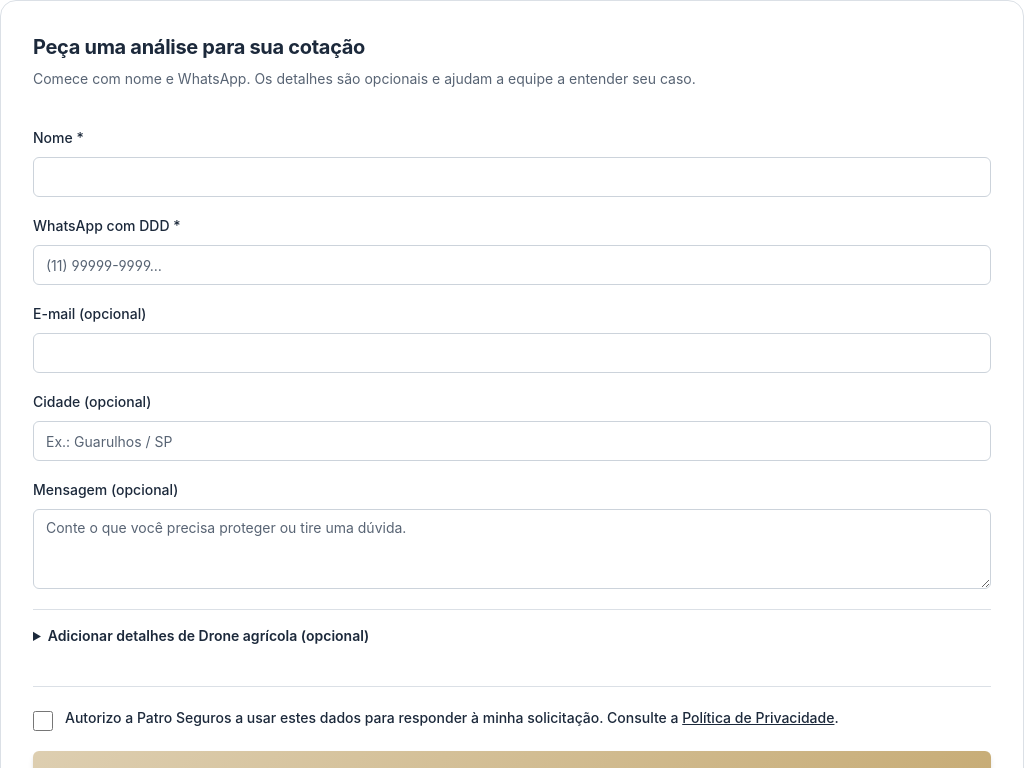
Test: Captação por produto › envia produto, origem, campanha, consentimento e detalhes pelo fluxo existente
This screenshot has width=1024, height=768.
Step 1. Type "Maria Teste" into the field labelled "Nome *" → (512, 177), box [33,157,991,197]
Step 2. Type "11999999999" into the field labelled "WhatsApp com DDD *" → (512, 265), box [33,245,991,285]
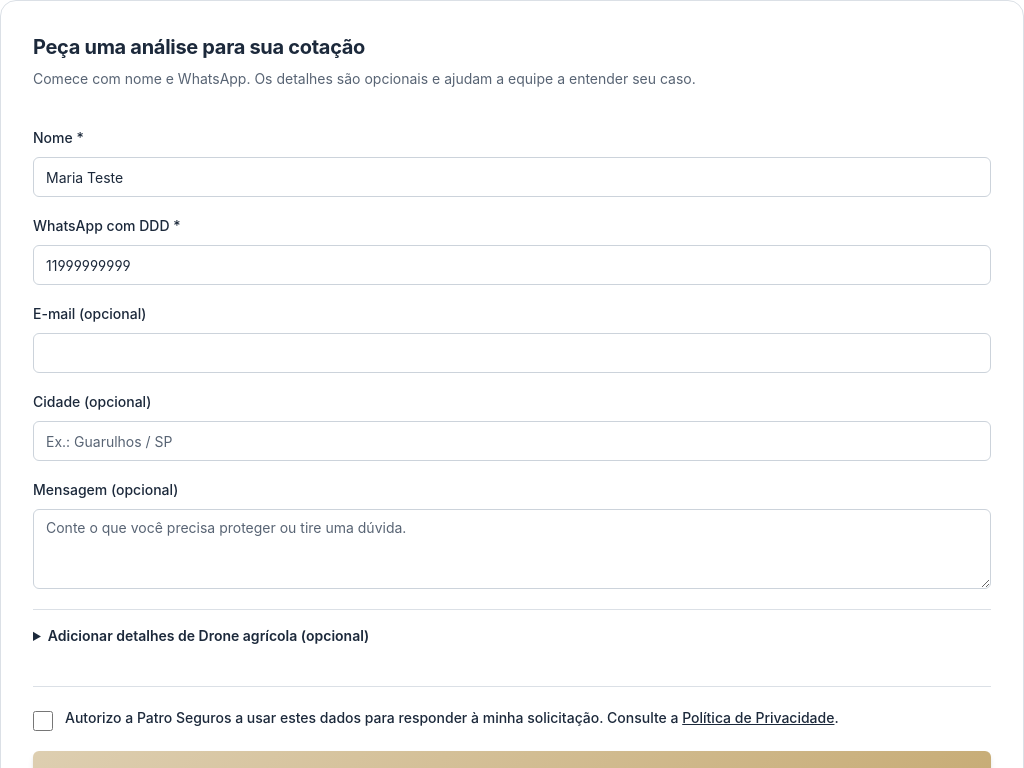
Step 3. Click the checkbox → (43, 721), box [33,711,53,731]
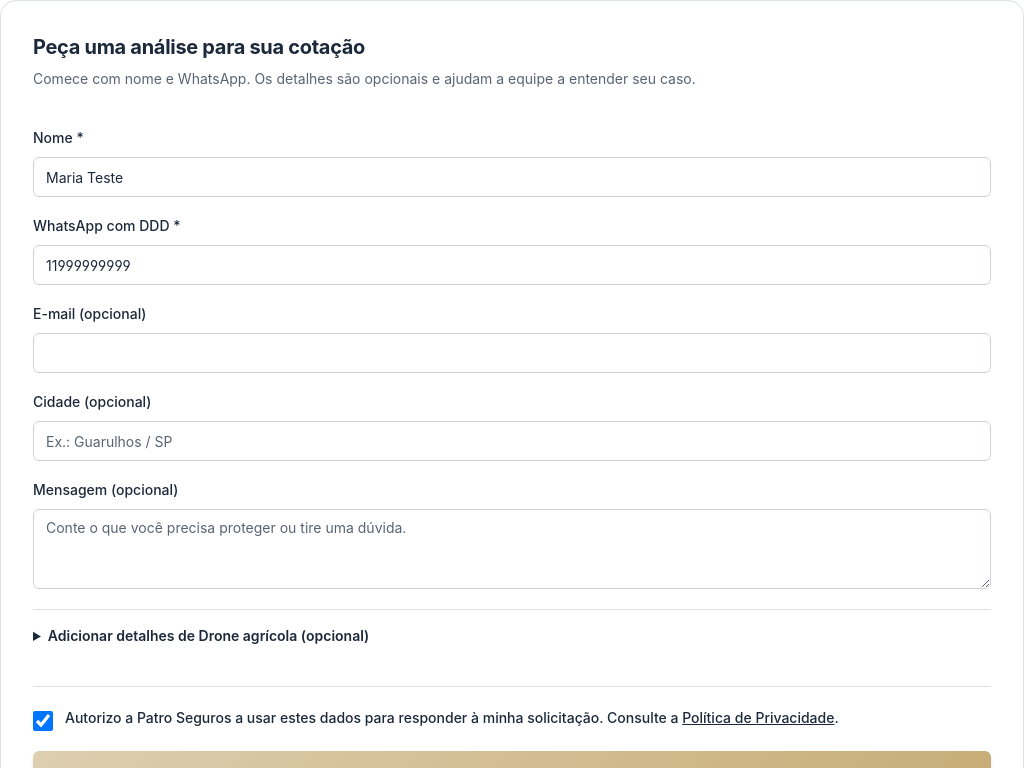
Step 4. Type "Guarulhos / SP" into the field labelled "Cidade (opcional)" → (512, 441), box [33,421,991,461]
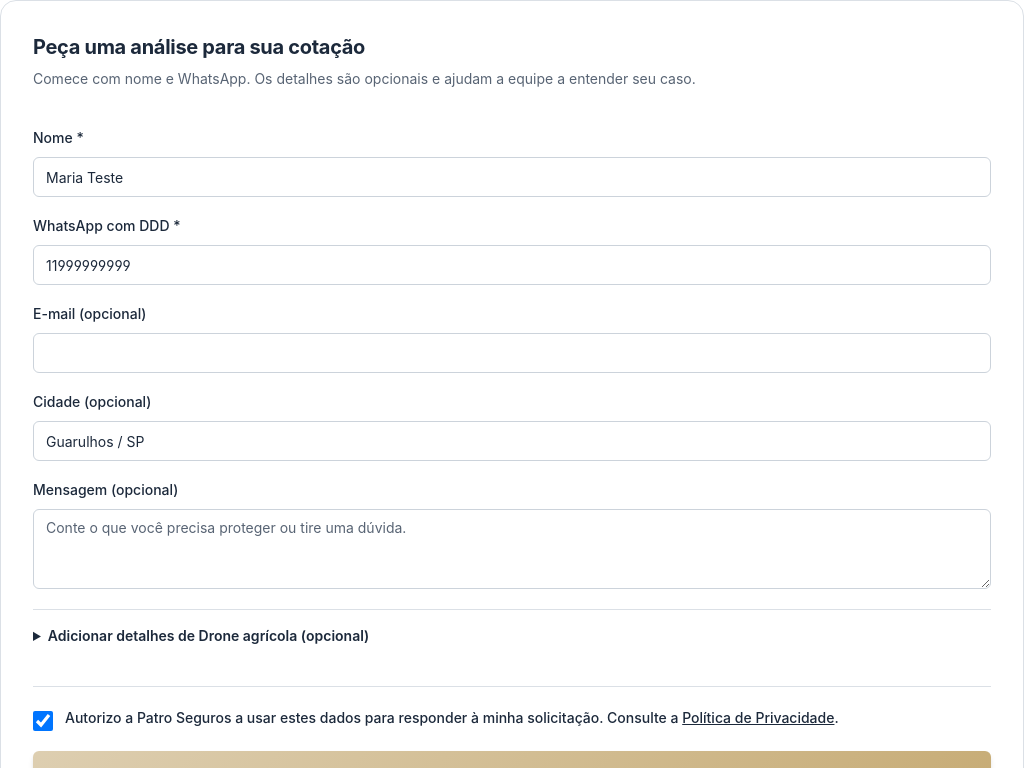
Step 5. Type "Quero proteger meu drone" into the text box labelled "Mensagem (opcional)" → (512, 549), box [33,509,991,589]
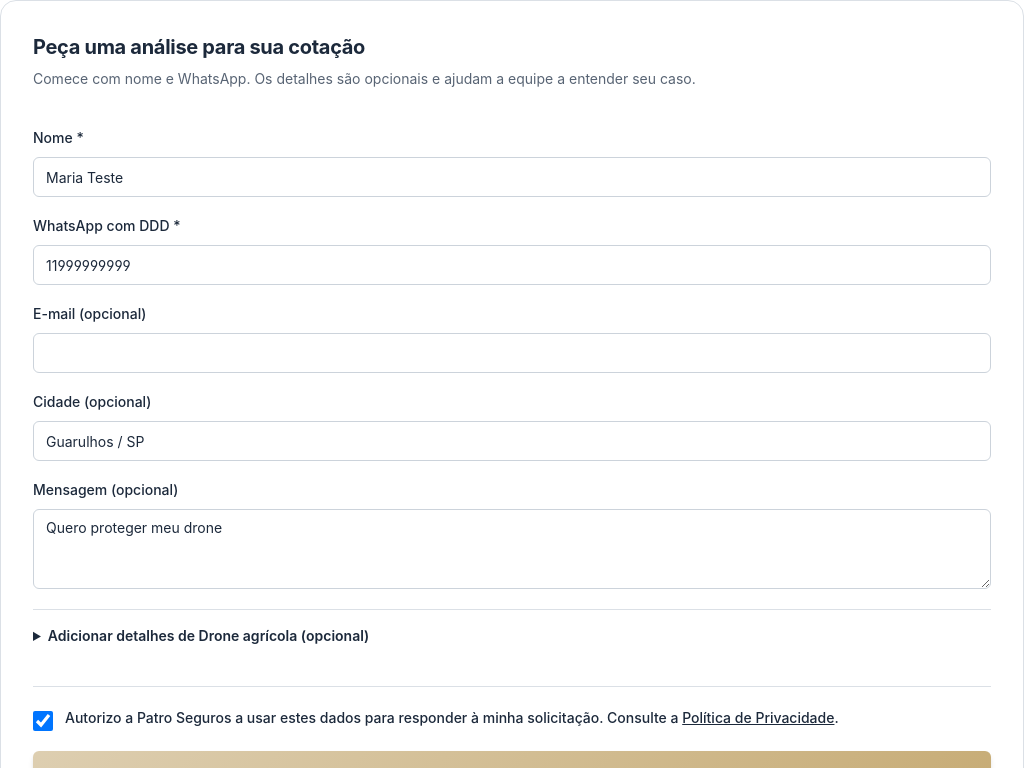
Step 6. Replace the text in the field named "Marca, modelo e ano" with "Drone de teste 2026" → (512, 648), box [33,609,991,687]
(page scrolled)
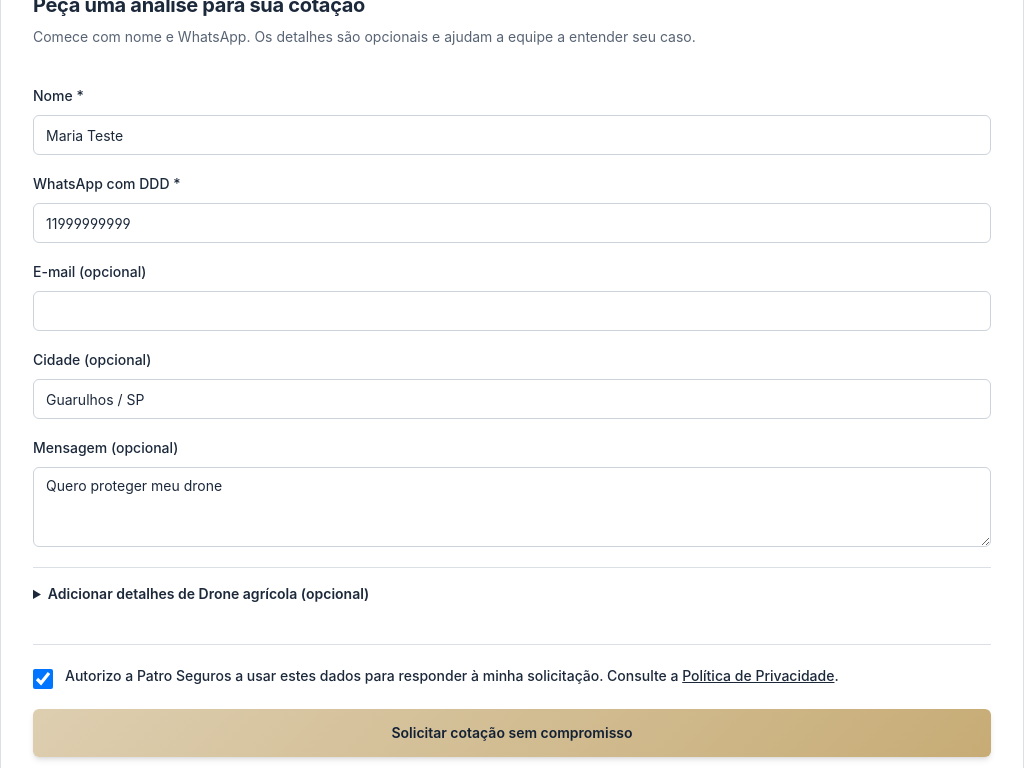
Step 7. Submit the form
(page scrolled)
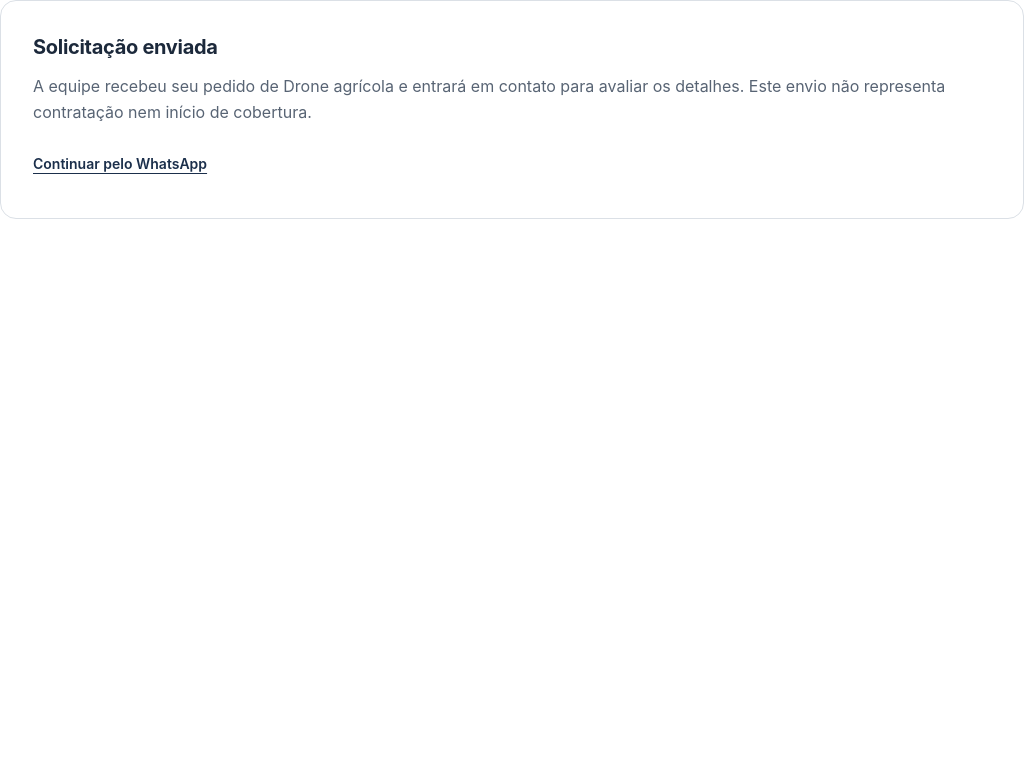
Now the message is shown, box [0,0,1023,219]
